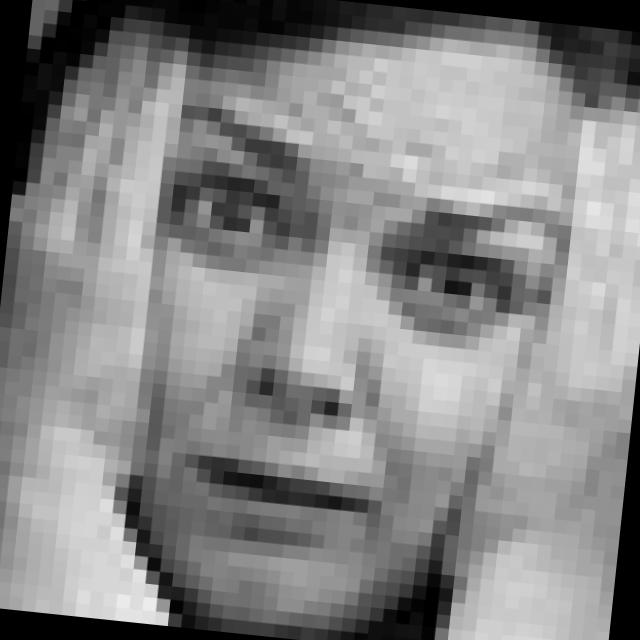fear: (123, 84, 572, 587)
